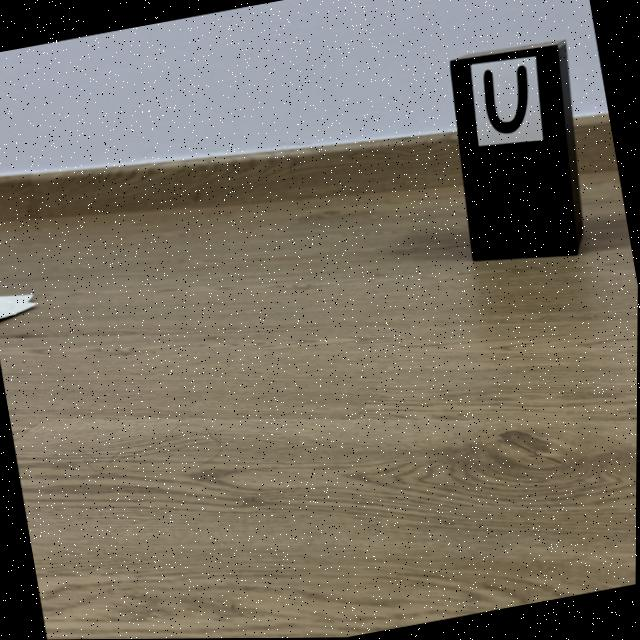U: (483, 66, 528, 134)
